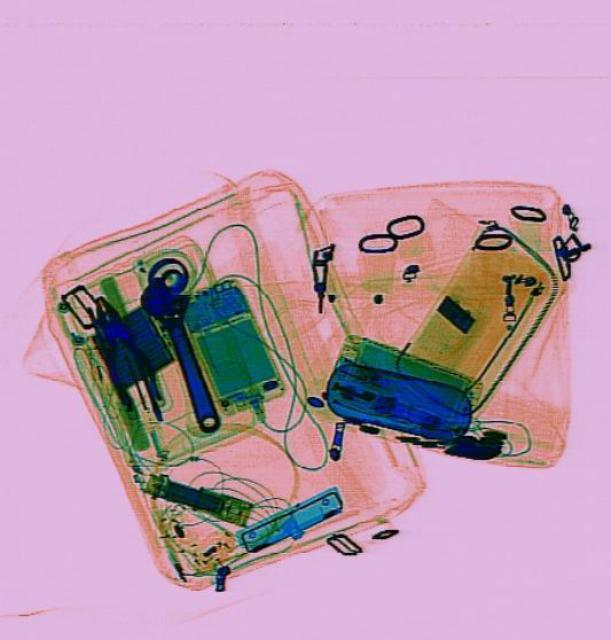Pliers: (77, 287, 164, 413)
Wrench: (130, 266, 237, 436)
